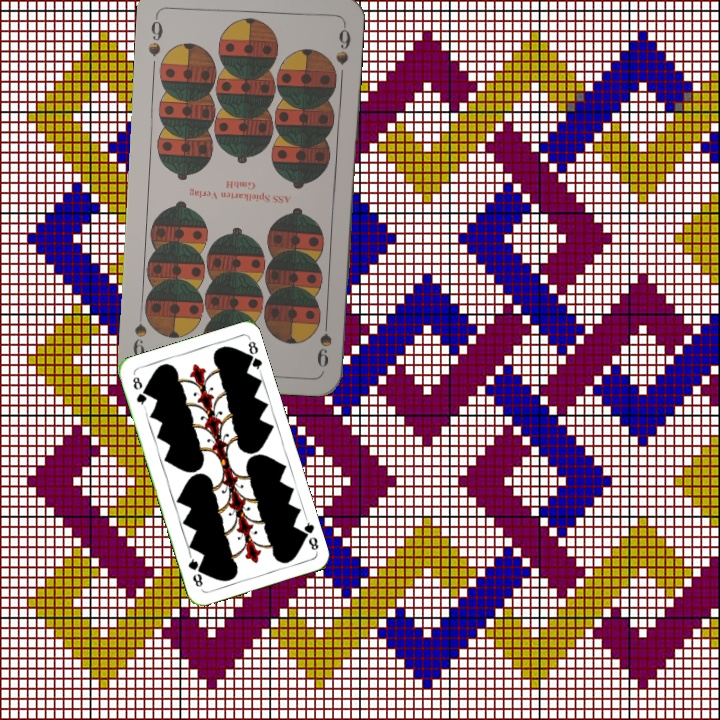G8: (296, 514, 321, 554), (129, 372, 149, 410)
S9: (312, 311, 335, 370), (144, 12, 165, 59)
